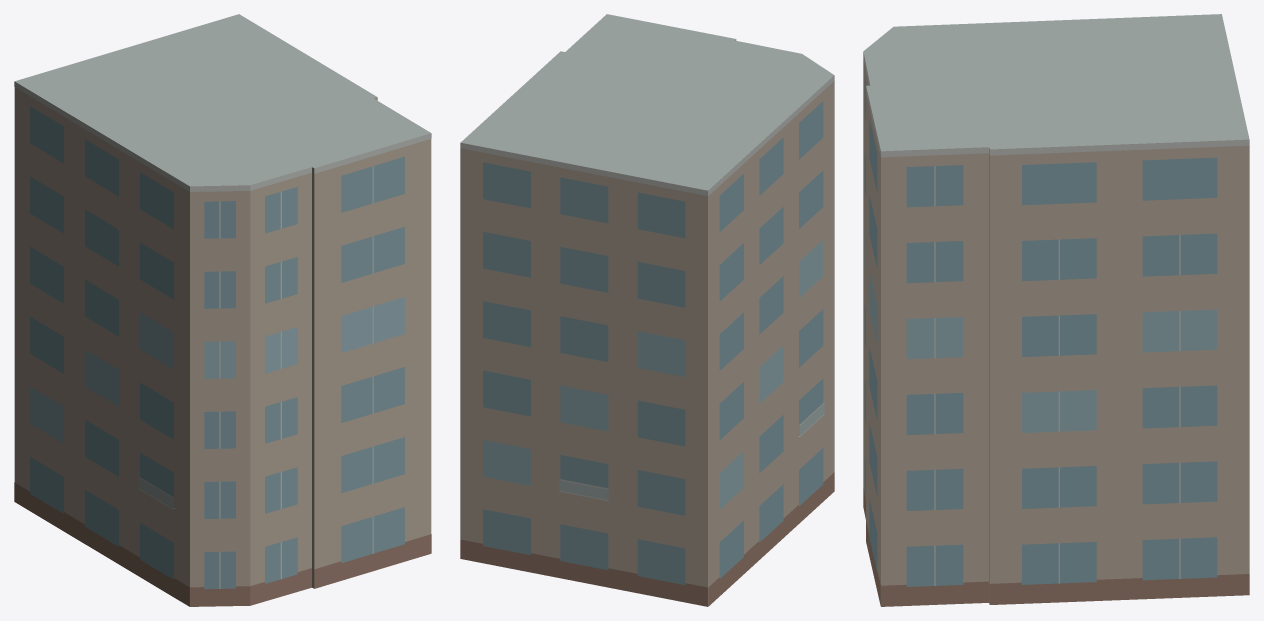
Rendered from survey-upis-32503816.glb.
The picture shows the model from 3 angles, left to right: view 1: azimuth 30°, elevation 25°; view 2: azimuth 150°, elevation 25°; view 3: azimuth 270°, elevation 25°; orthographic projection. The views are drawn at different scales.
Visible parts, largest first — view 1: survey-upis-32503816.tmp; view 2: survey-upis-32503816.tmp; view 3: survey-upis-32503816.tmp.
Boxes of the visible parts, x1=… form: survey-upis-32503816.tmp: x1=14, y1=14, x2=431, y2=606; survey-upis-32503816.tmp: x1=460, y1=14, x2=834, y2=606; survey-upis-32503816.tmp: x1=863, y1=14, x2=1249, y2=606.
Size of the model in its own units: 11.87 by 18.35 by 14.11.
